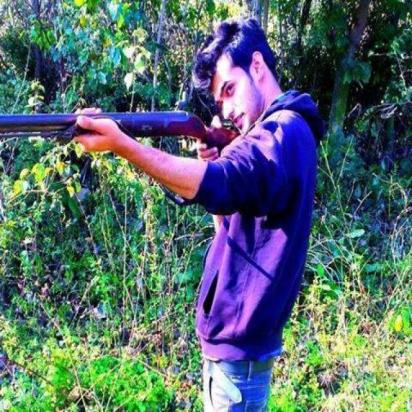Gun: (0, 108, 243, 159)
